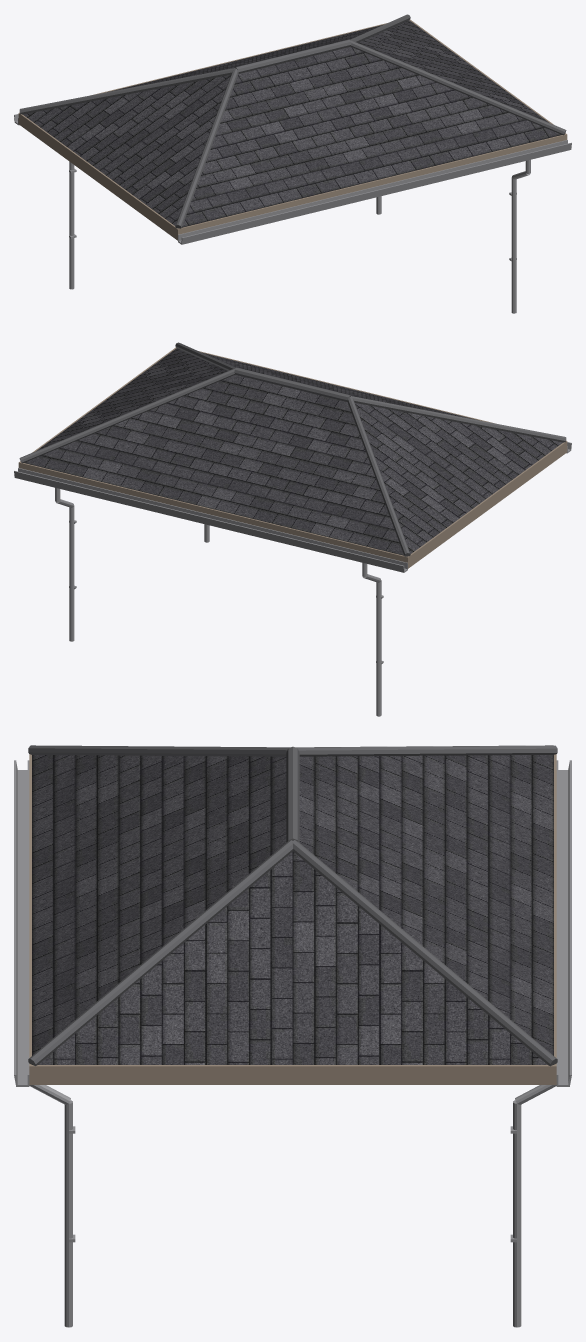
The model's file is ki_roof.glb.
The picture shows the model from 3 angles, top to bottom: view 1: azimuth 30°, elevation 25°; view 2: azimuth 150°, elevation 25°; view 3: azimuth 270°, elevation 25°; orthographic projection. The views are drawn at different scales.
Visible parts, largest first — view 1: ki_roof_roof_d, ki_roof_gutter, ki_roof_dark, ki_roof_trim; view 2: ki_roof_roof_d, ki_roof_gutter, ki_roof_dark, ki_roof_trim; view 3: ki_roof_roof_d, ki_roof_gutter, ki_roof_dark, ki_roof_trim.
Boxes of the visible parts, left/top/right/bottom form: ki_roof_roof_d: left=23, top=20, right=561, bottom=227; ki_roof_gutter: left=14, top=114, right=571, bottom=313; ki_roof_dark: left=19, top=14, right=566, bottom=228; ki_roof_trim: left=18, top=19, right=567, bottom=240; ki_roof_roof_d: left=24, top=348, right=562, bottom=556; ki_roof_gutter: left=14, top=442, right=571, bottom=716; ki_roof_dark: left=19, top=342, right=566, bottom=556; ki_roof_trim: left=18, top=347, right=567, bottom=568; ki_roof_roof_d: left=32, top=755, right=553, bottom=1064; ki_roof_gutter: left=14, top=760, right=571, bottom=1327; ki_roof_dark: left=28, top=745, right=557, bottom=1066; ki_roof_trim: left=29, top=754, right=556, bottom=1084.
Size of the model in its own units: 6.87 by 4.15 by 5.13.
Materials: 6 (1 with a texture image).
